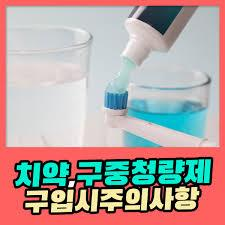toothpaste: (120, 4, 200, 65)
